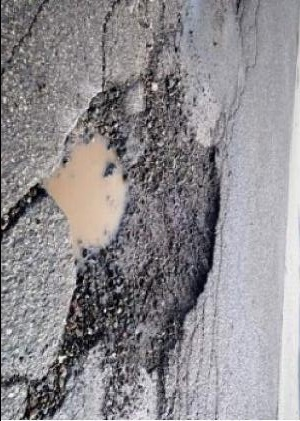pothole: (37, 68, 227, 381)
